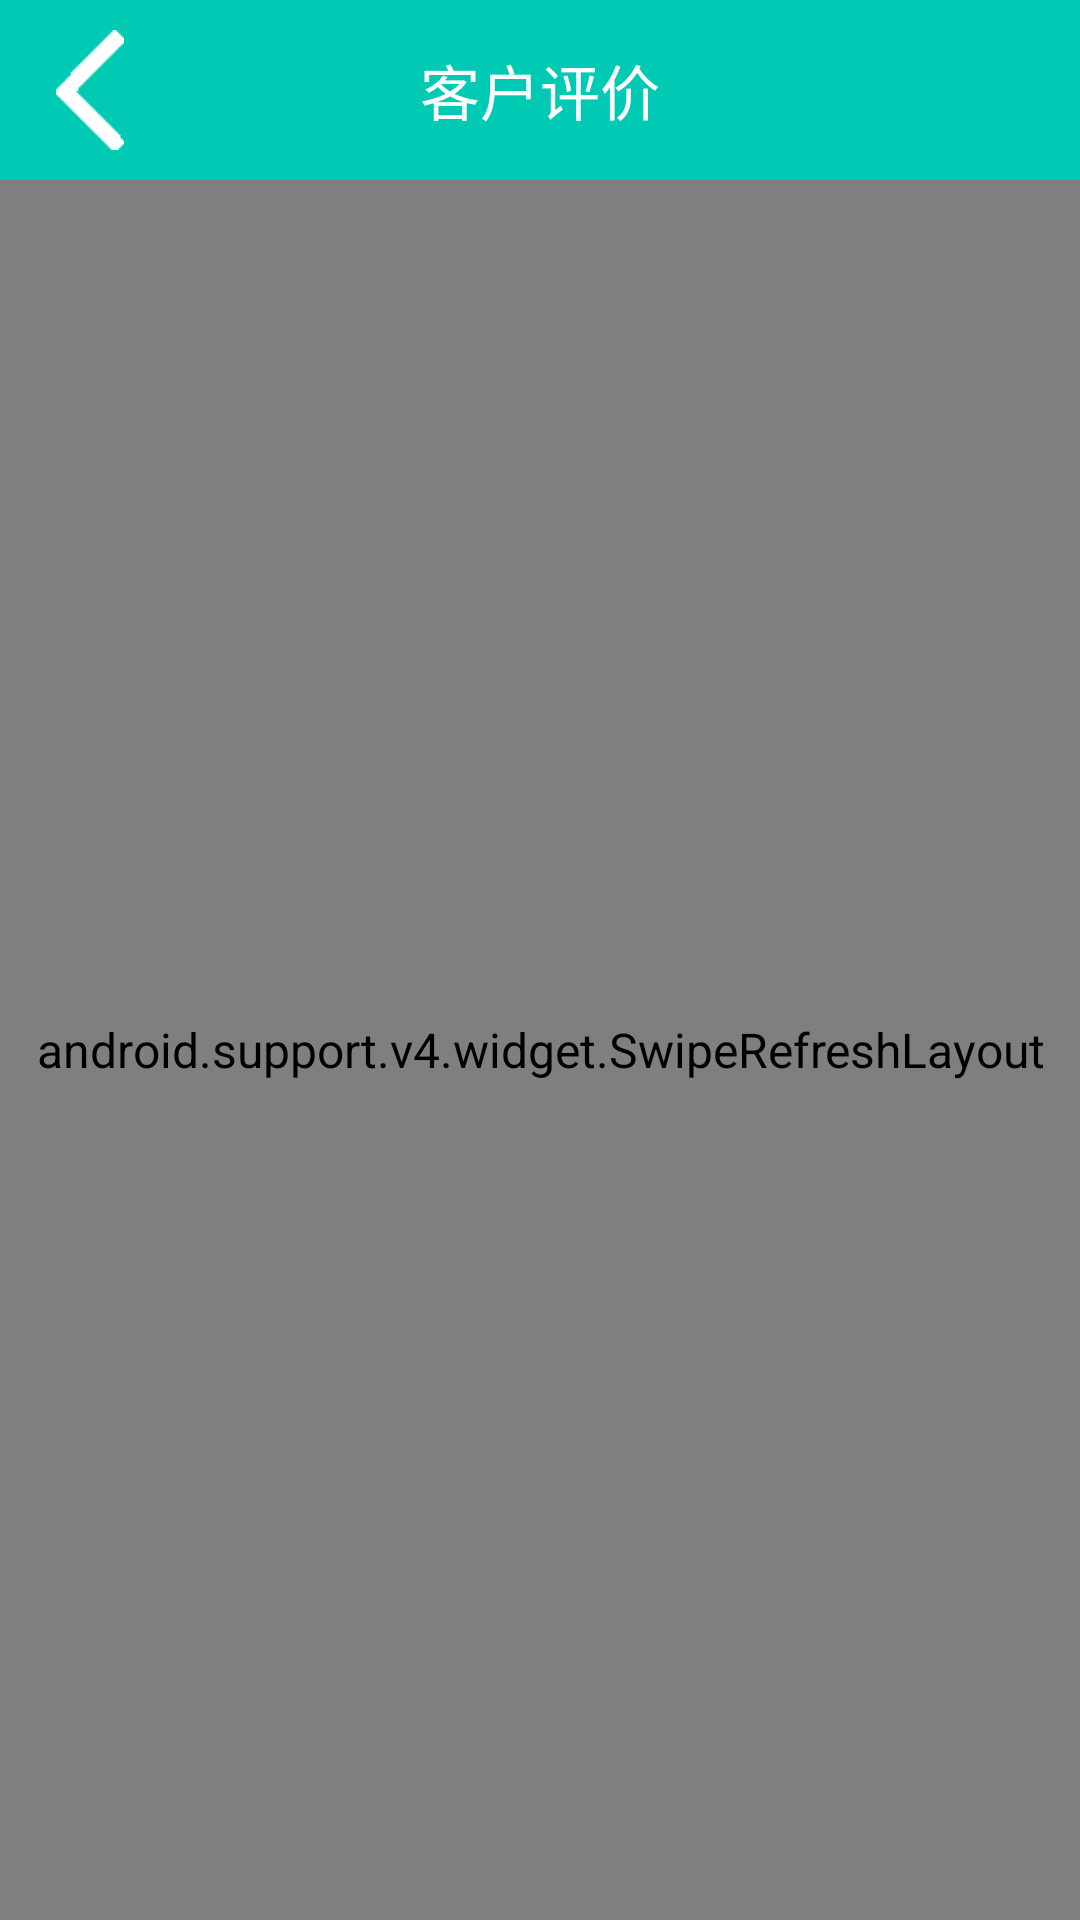

Where to tap for icons on this 1080×1920 app screen, as [x,y]:
back: [90,90]
